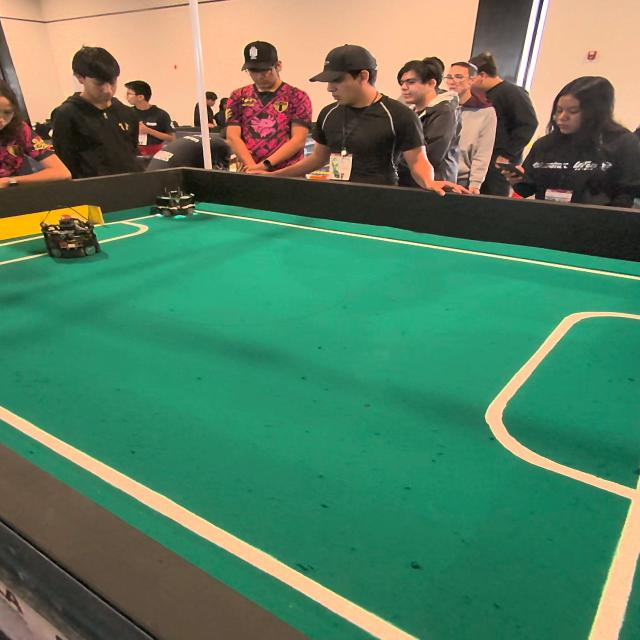Robot: (38, 202, 108, 264), (150, 174, 198, 222)
